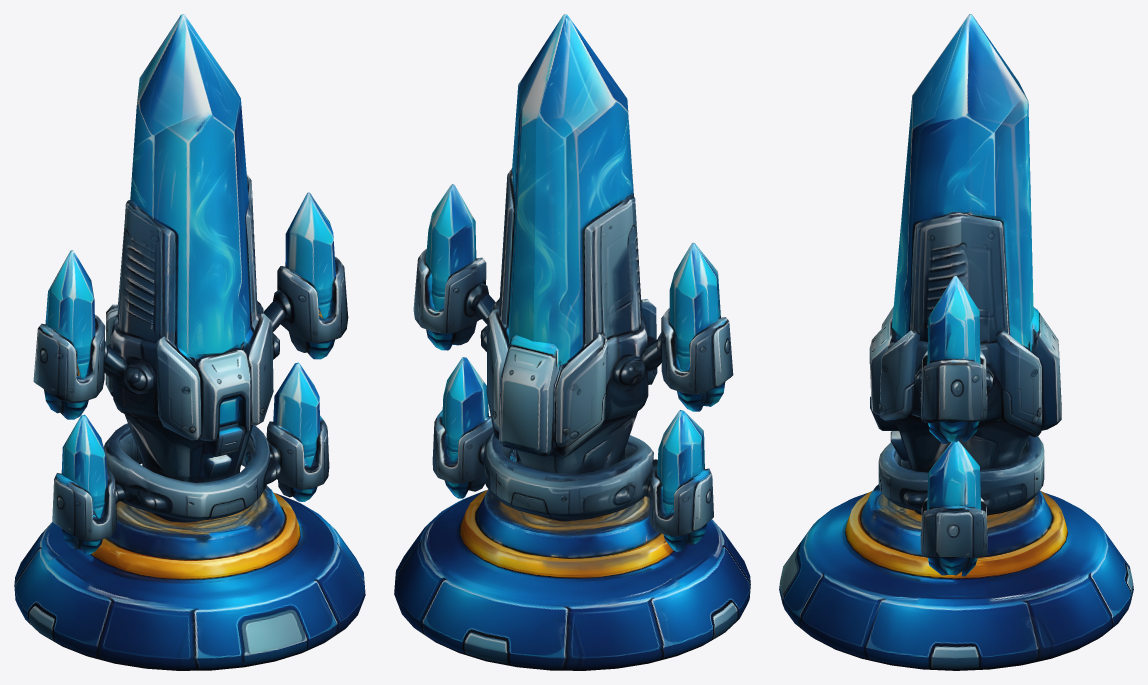
The picture shows the model from 3 angles, left to right: view 1: azimuth 30°, elevation 25°; view 2: azimuth 150°, elevation 25°; view 3: azimuth 270°, elevation 25°; orthographic projection.
Parts seen in each view (by area): view 1: TurretHead, TurretBase; view 2: TurretHead, TurretBase; view 3: TurretHead, TurretBase.
Part boxes in pixels (x1,y1,x2,y2): TurretHead: (33, 14, 348, 577); TurretBase: (14, 493, 365, 670); TurretHead: (413, 14, 733, 576); TurretBase: (394, 490, 750, 670); TurretHead: (845, 14, 1067, 576); TurretBase: (779, 493, 1133, 670).
Size of the model in its own units: 172 by 171 by 311.
1 material, 1 textured.
